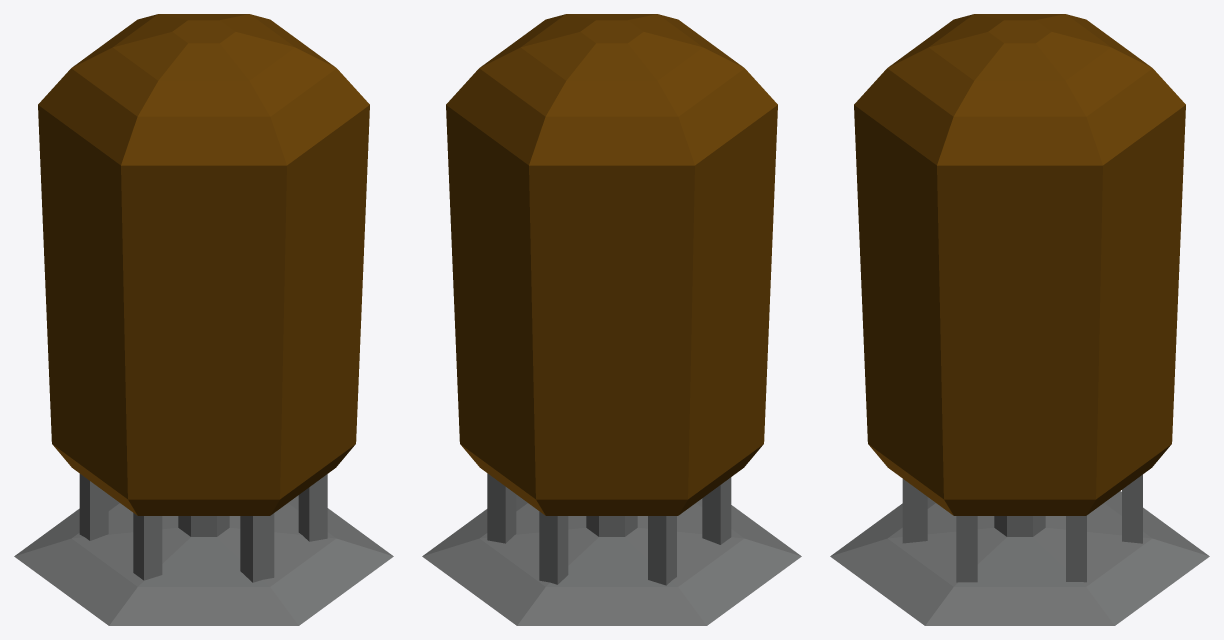
Rendered from bad_water_tank.glb.
3 renders of one model, left to right at view 1: azimuth 30°, elevation 25°; view 2: azimuth 150°, elevation 25°; view 3: azimuth 270°, elevation 25°, orthographic.
Visible parts, largest first — view 1: Circle.003, Cube.018, Cube.023, Cube.019, Cube.022; view 2: Circle.003, Cube.021, Cube.022, Cube.020, Cube.023; view 3: Circle.003, Cube.019, Cube.018, Cube.020, Cube.021.
Boxes of the visible parts, x1,y1,x2,y2 form: Circle.003: (14,14,393,625); Cube.018: (240,513,274,582); Cube.023: (133,513,162,580); Cube.019: (298,474,327,541); Cube.022: (79,474,108,540); Circle.003: (422,14,801,625); Cube.021: (539,511,568,584); Cube.022: (648,516,676,585); Cube.020: (487,473,516,543); Cube.023: (702,477,731,544); Circle.003: (830,14,1209,625); Cube.019: (956,516,977,582); Cube.018: (902,479,927,543); Cube.020: (1066,515,1086,582); Cube.021: (1122,474,1142,543).
Bounding box in the file's own units: 0.866 × 1.52 × 1.
